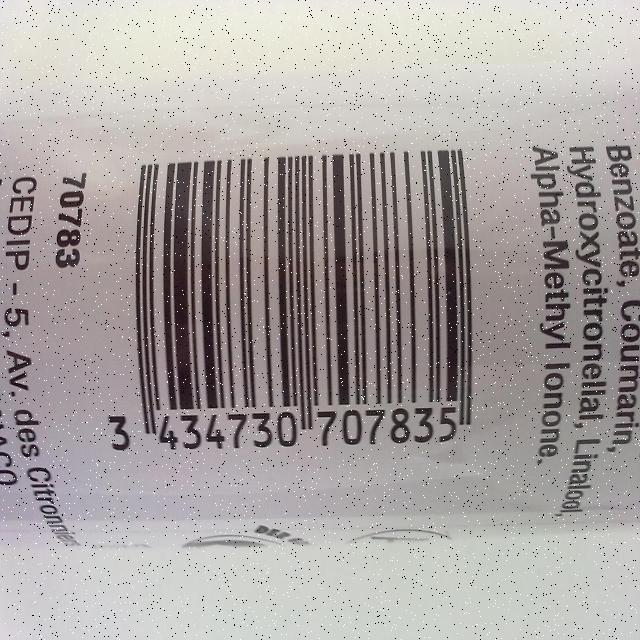barcode: (109, 142, 476, 462), (132, 417, 136, 422)
